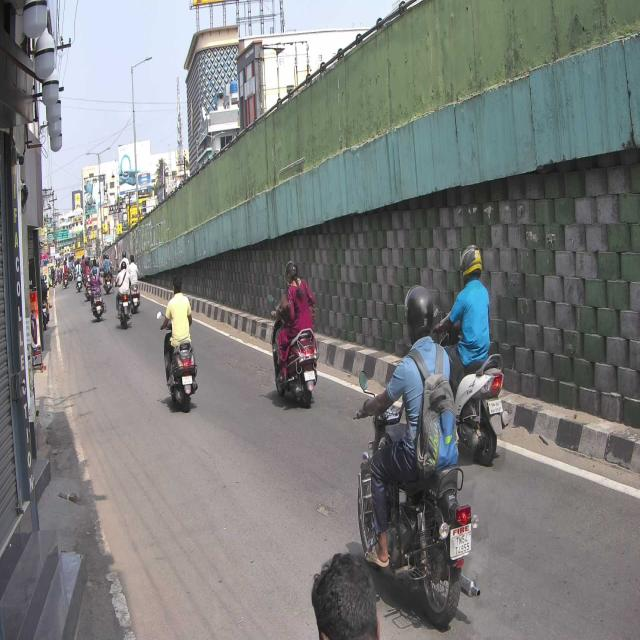single_rider: (353, 283, 481, 631)
